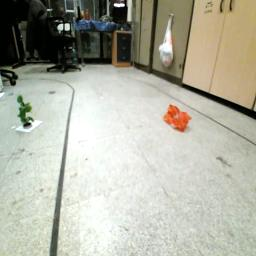herb: (17, 95, 36, 125)
wild: (165, 105, 193, 132)
